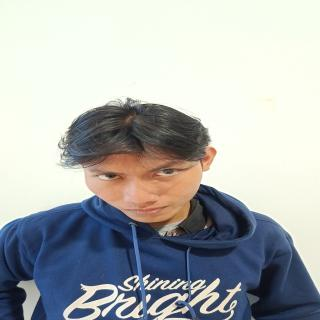Marah: (81, 139, 207, 223)
